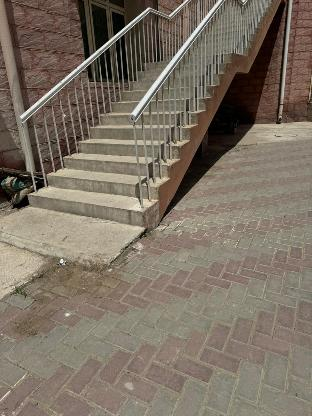stair: (46, 44, 197, 232)
